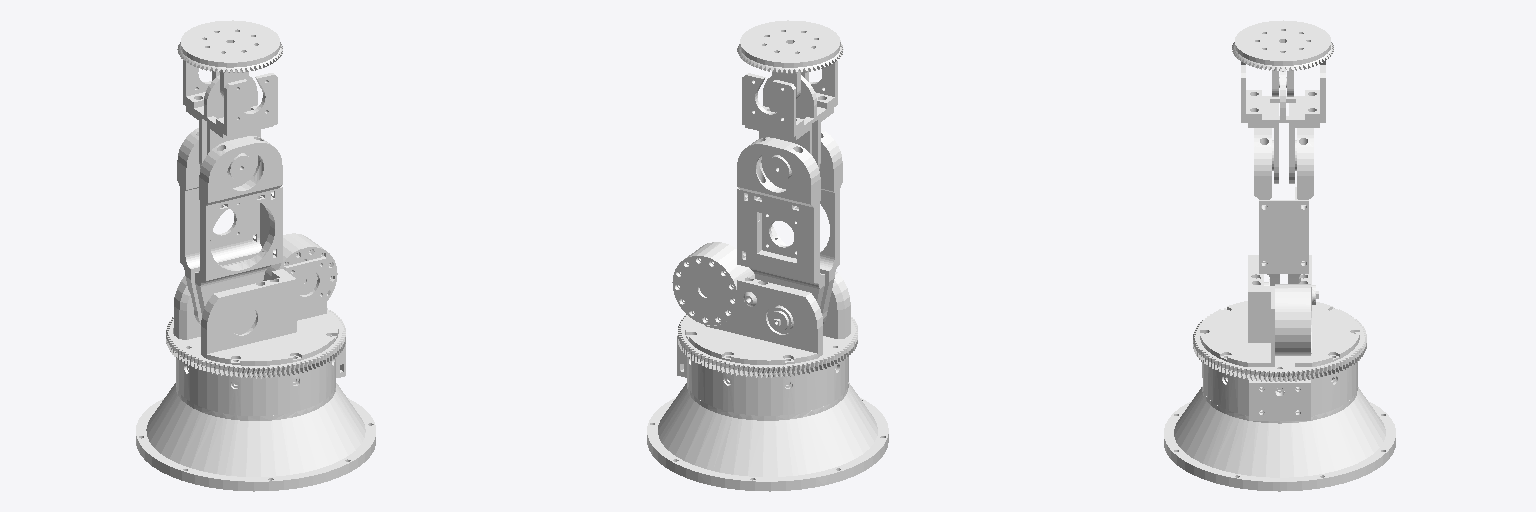
robot.urdf — yara:
<?xml version="1.0" encoding="utf-8"?>

<robot name="yara">
 
  <link name="base_link"/>

  <joint name="yara_base" type="fixed">
    <parent link="base_link"/>
    <child link="yara_link_0"/>
    <origin rpy="0 0 0" xyz="0 0 0"/>
  </joint>
  
  <link name="yara_link_0">
    <visual>
    <origin rpy="0 0 0" xyz="0.0302686 0.015353 0.06"/>
      <geometry>
        <mesh filename="package://yara_description/meshes/Link0.stl"/>
      </geometry>
      <material name="yara_white">
        <color rgba="1 1 1 1"/>
      </material>
    </visual>

    <collision>
    <origin rpy="0 0 0" xyz="0.0302686 0.015353 0.06"/>
      <geometry>
        <mesh filename="package://yara_description/meshes/Link0.stl"/>
      </geometry>
      <material name="yara_white">
        <color rgba="1 1 1 1"/>
      </material>
    </collision>
  </link>

  <joint name="yara_joint_1" type="revolute">
    <origin rpy="0 0 0" xyz="0 0 0.06"/>
    <parent link="yara_link_0"/>
    <child link="yara_link_1"/>
    <axis xyz="0 0 1"/>
    <limit effort="5" lower="-6.28" upper="6.28" velocity="0.5"/>
  </joint>

  <link name="yara_link_1">
    <visual>
      <origin rpy="0 0 0" xyz="0.0302686 0.015353 0"/>
      <geometry>
        <mesh filename="package://yara_description/meshes/Link1.stl"/>
      </geometry>
      <material name="yara_white">
        <color rgba="1 1 1 1"/>
      </material>
    </visual>

    <collision>
      <origin rpy="0 0 0" xyz="0.0302686 0.015353 0"/>
      <geometry>
        <mesh filename="package://yara_description/meshes/Link1.stl"/>
      </geometry>
      <material name="yara_white">
        <color rgba="1 1 1 1"/>
      </material>
    </collision>
  </link>

  <joint name="yara_joint_2" type="revolute">
    <origin rpy="0 0 0" xyz="-0.030585 0 0.08"/>
    <parent link="yara_link_1"/>
    <child link="yara_link_2"/>
    <axis xyz="0 1 0"/>
    <limit effort="5" lower="-1.3" upper="0.17" velocity="0.5"/>
  </joint>

  <link name="yara_link_2">
    <visual>
      <origin rpy="0 0 0" xyz="-0.07 0 0"/>
      <geometry>
        <mesh filename="package://yara_description/meshes/Link2.stl"/>
      </geometry>
      <material name="yara_white">
        <color rgba="1 1 1 1"/>
      </material>
    </visual>

    <collision>
      <origin rpy="0 0 0" xyz="-0.07 0 0"/>
      <geometry>
        <mesh filename="package://yara_description/meshes/Link2.stl"/>
      </geometry>
      <material name="yara_white">
        <color rgba="1 1 1 1"/>
      </material>
    </collision>
  </link>

  <joint name="yara_joint_3" type="revolute">
    <origin rpy="0 0 0" xyz="0.005 0 0.151049"/>
    <parent link="yara_link_2"/>
    <child link="yara_link_3"/>
    <axis xyz="0 1 0"/>
    <limit effort="5" lower="-1.6" upper="1.6" velocity="0.5"/>
  </joint>

  <link name="yara_link_3">
    <visual>
      <origin rpy="0 0 0" xyz="0.0558536 0.0195 -0.231049"/>
      <geometry>
        <mesh filename="package://yara_description/meshes/Link3.stl"/>
      </geometry>
      <material name="yara_white">
        <color rgba="1 1 1 1"/>
      </material>
    </visual>

    <collision>
      <origin rpy="0 0 0" xyz="0.0558536 0.0195 -0.231049"/>
      <geometry>
        <mesh filename="package://yara_description/meshes/Link3.stl"/>
      </geometry>
      <material name="yara_white">
        <color rgba="1 1 1 1"/>
      </material>
    </collision>
  </link>

  <joint name="yara_joint_4" type="revolute">
    <origin rpy="0 0 0" xyz="0 0 0.076893"/>
    <parent link="yara_link_3"/>
    <child link="yara_link_4"/>
    <axis xyz="0 1 0"/>
    <limit effort="5" lower="-1.5" upper="0.7" velocity="0.5"/>
  </joint>

  <link name="yara_link_4">
    <visual>
      <origin rpy="0 0 1.5707963" xyz="0 0.003 -0.031"/>
      <geometry>
        <mesh filename="package://yara_description/meshes/Link4.stl"/>
      </geometry>
      <material name="yara_white">
        <color rgba="1 1 1 1"/>
      </material>
    </visual>

    <collision>
      <origin rpy="0 0 1.5707963" xyz="0 0.003 -0.031"/>
      <geometry>
        <mesh filename="package://yara_description/meshes/Link4.stl"/>
      </geometry>
      <material name="yara_white">
        <color rgba="1 1 1 1"/>
      </material>
    </collision>
  </link>

  <joint name="yara_joint_5" type="revolute">
    <origin rpy="0 0 0" xyz="0 0.003 0"/>
    <parent link="yara_link_4"/>
    <child link="yara_link_5"/>
    <axis xyz="0 0 1"/>
    <limit effort="5" lower="-6.28" upper="6.28" velocity="0.5"/>
  </joint>

  <link name="yara_link_5">
    <visual>
      <origin rpy="0 0 1.5707963" xyz="0 0 -0.03"/>
      <geometry>
        <mesh filename="package://yara_description/meshes/Link5.stl"/>
      </geometry>
      <material name="yara_white">
        <color rgba="1 1 1 1"/>
      </material>
    </visual>

    <collision>
      <origin rpy="0 0 1.5707963" xyz="0 0 -0.03"/>
      <geometry>
        <mesh filename="package://yara_description/meshes/Link5.stl"/>
      </geometry>
      <material name="yara_white">
        <color rgba="1 1 1 1"/>
      </material>
    </collision>
  </link>
  
  <joint name="yara_joint_5_tool0" type="fixed">
    <parent link="yara_link_5"/>
    <child link="yara_tool0"/>
    <origin rpy="0 0 0" xyz="0 0 0.047"/>
  </joint>

  <link name="yara_tool0"/> 

</robot>

--- What the picture shows (computed from the rendered views, not written in the file) ---
The picture shows the robot from 3 angles, left to right: view 1: azimuth 30°, elevation 25°; view 2: azimuth 150°, elevation 25°; view 3: azimuth 270°, elevation 25°; orthographic projection.
Robot: yara — 8 links, 7 joints (5 revolute, 2 fixed); root link base_link; default pose: all joints at 0.
Visible links, largest first — view 1: yara_link_0, yara_link_1, yara_link_2, yara_link_3, yara_link_5; view 2: yara_link_0, yara_link_1, yara_link_2, yara_link_3, yara_link_5; view 3: yara_link_0, yara_link_1, yara_link_2, yara_link_5, yara_link_3.
Link boxes in pixels (x1,y1,x2,y2): yara_link_0: (136,344,375,491); yara_link_1: (166,233,345,378); yara_link_2: (177,128,282,334); yara_link_3: (183,60,277,187); yara_link_5: (177,20,282,72); yara_link_0: (647,335,888,491); yara_link_1: (672,242,857,377); yara_link_2: (737,129,842,333); yara_link_3: (742,61,837,189); yara_link_5: (737,20,843,73); yara_link_0: (1164,362,1395,491); yara_link_1: (1193,255,1366,381); yara_link_2: (1254,128,1318,304); yara_link_5: (1232,20,1333,71); yara_link_3: (1241,61,1325,183).
Size in the robot's own frame: 0.225 by 0.2249 by 0.4161 metres.
Meshes: 6 distinct files referenced, 6 mesh visuals loaded (6 binary STL).
